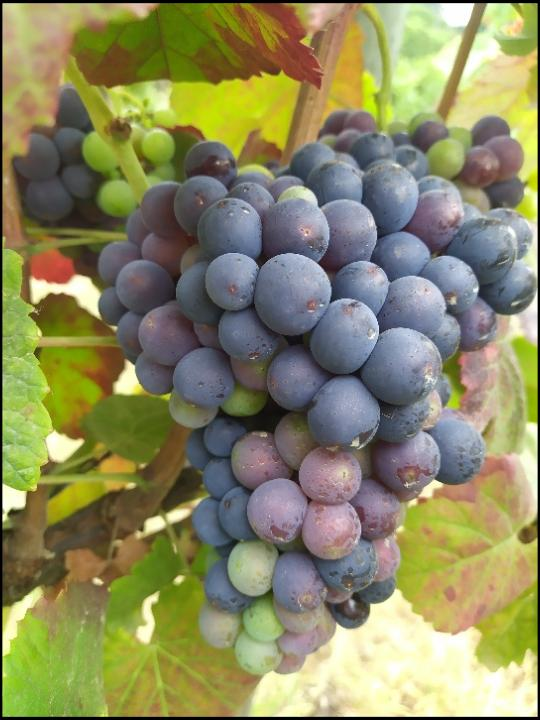grape: (85, 137, 538, 680)
